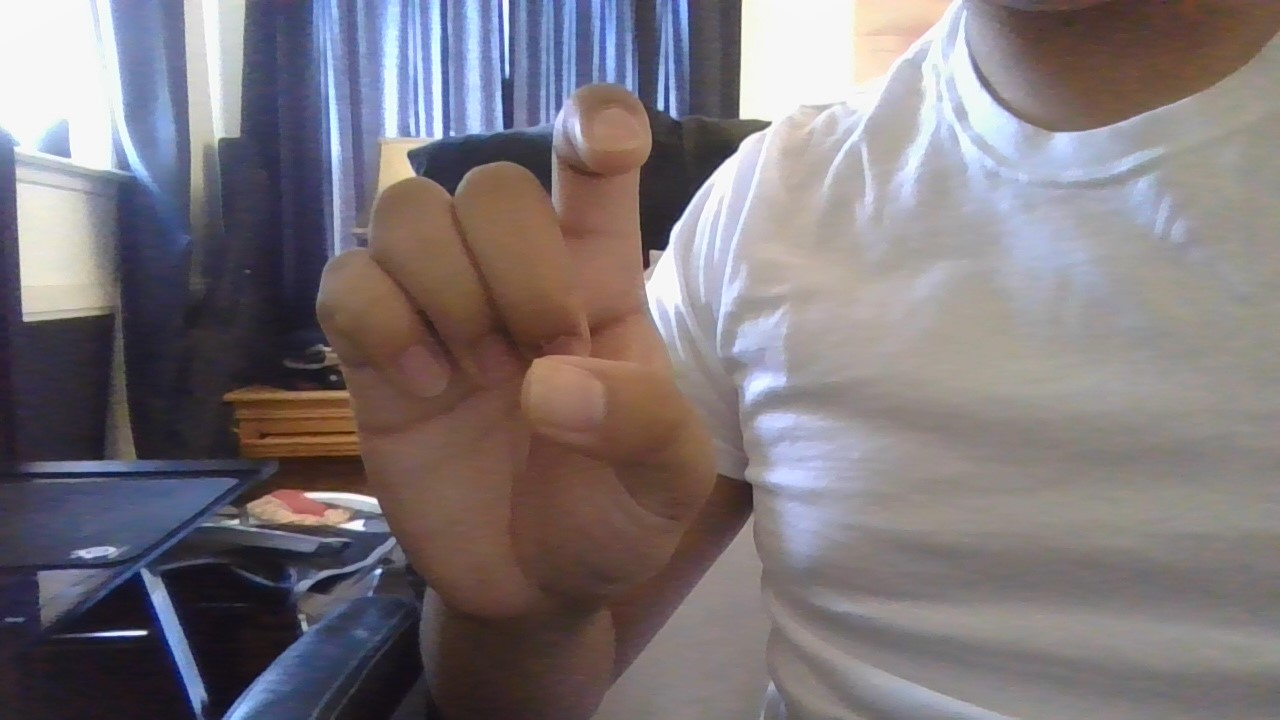x: (244, 56, 756, 631)
